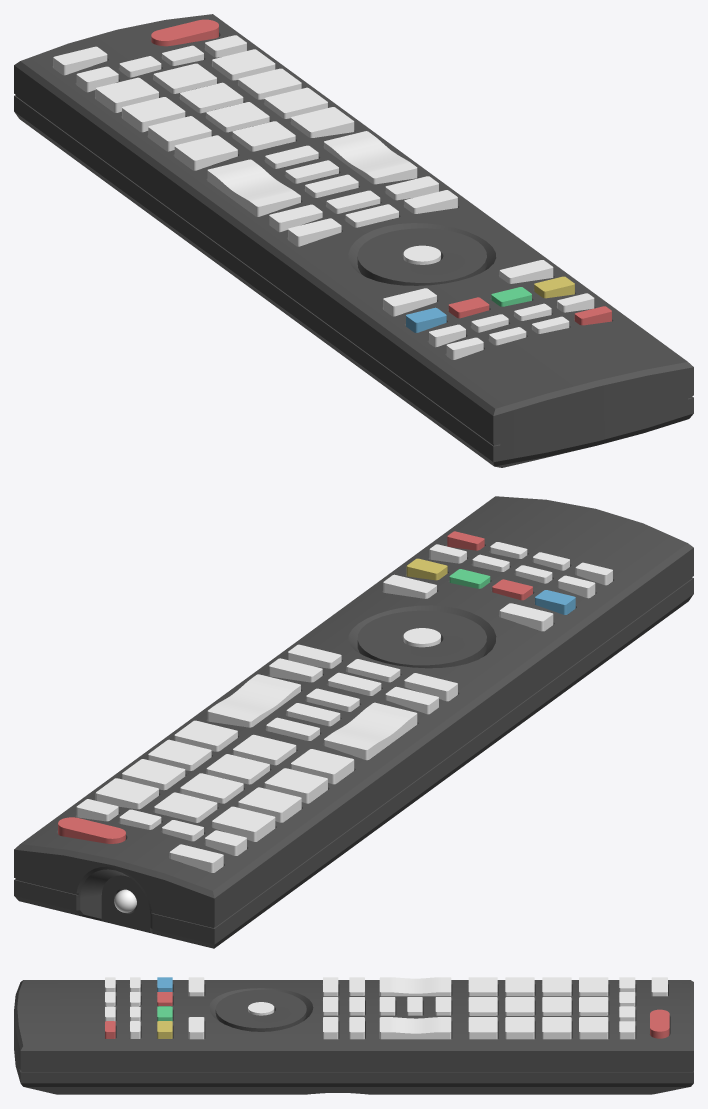
File: リモコン_分割なし.fbx
3 views of the same model, one above another, from view 1: azimuth 30°, elevation 25°; view 2: azimuth 150°, elevation 25°; view 3: azimuth 270°, elevation 25° (orthographic). The views are drawn at different scales.
Parts seen in each view (by area): view 1: Body.190; view 2: Body.190; view 3: Body.190.
Part boxes in pixels (x1,y1,x2,y2): Body.190: [14, 14, 693, 467]; Body.190: [14, 496, 693, 948]; Body.190: [14, 977, 693, 1094].
Size of the model in its own units: 5 by 2.45 by 20.9.
